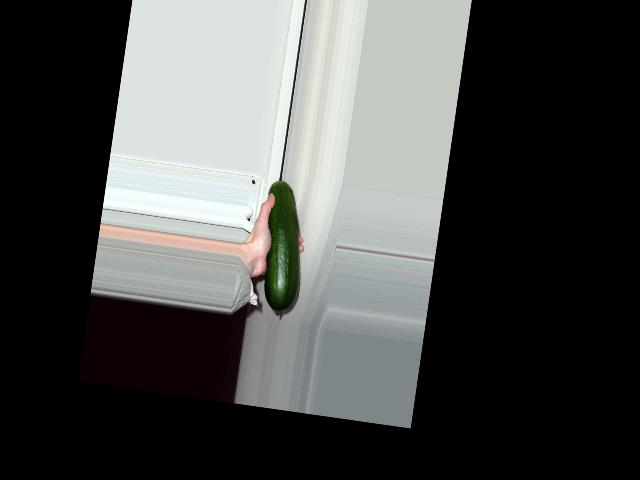cucumber: (252, 179, 314, 317)
